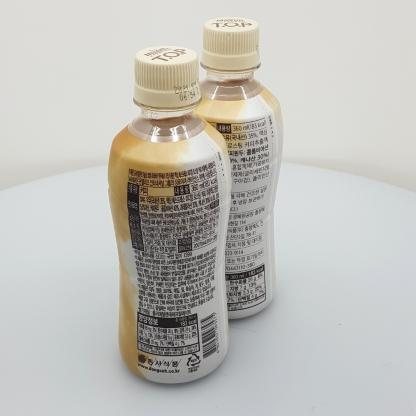--------TOP-----------: (107, 45, 232, 384), (181, 17, 284, 319)
